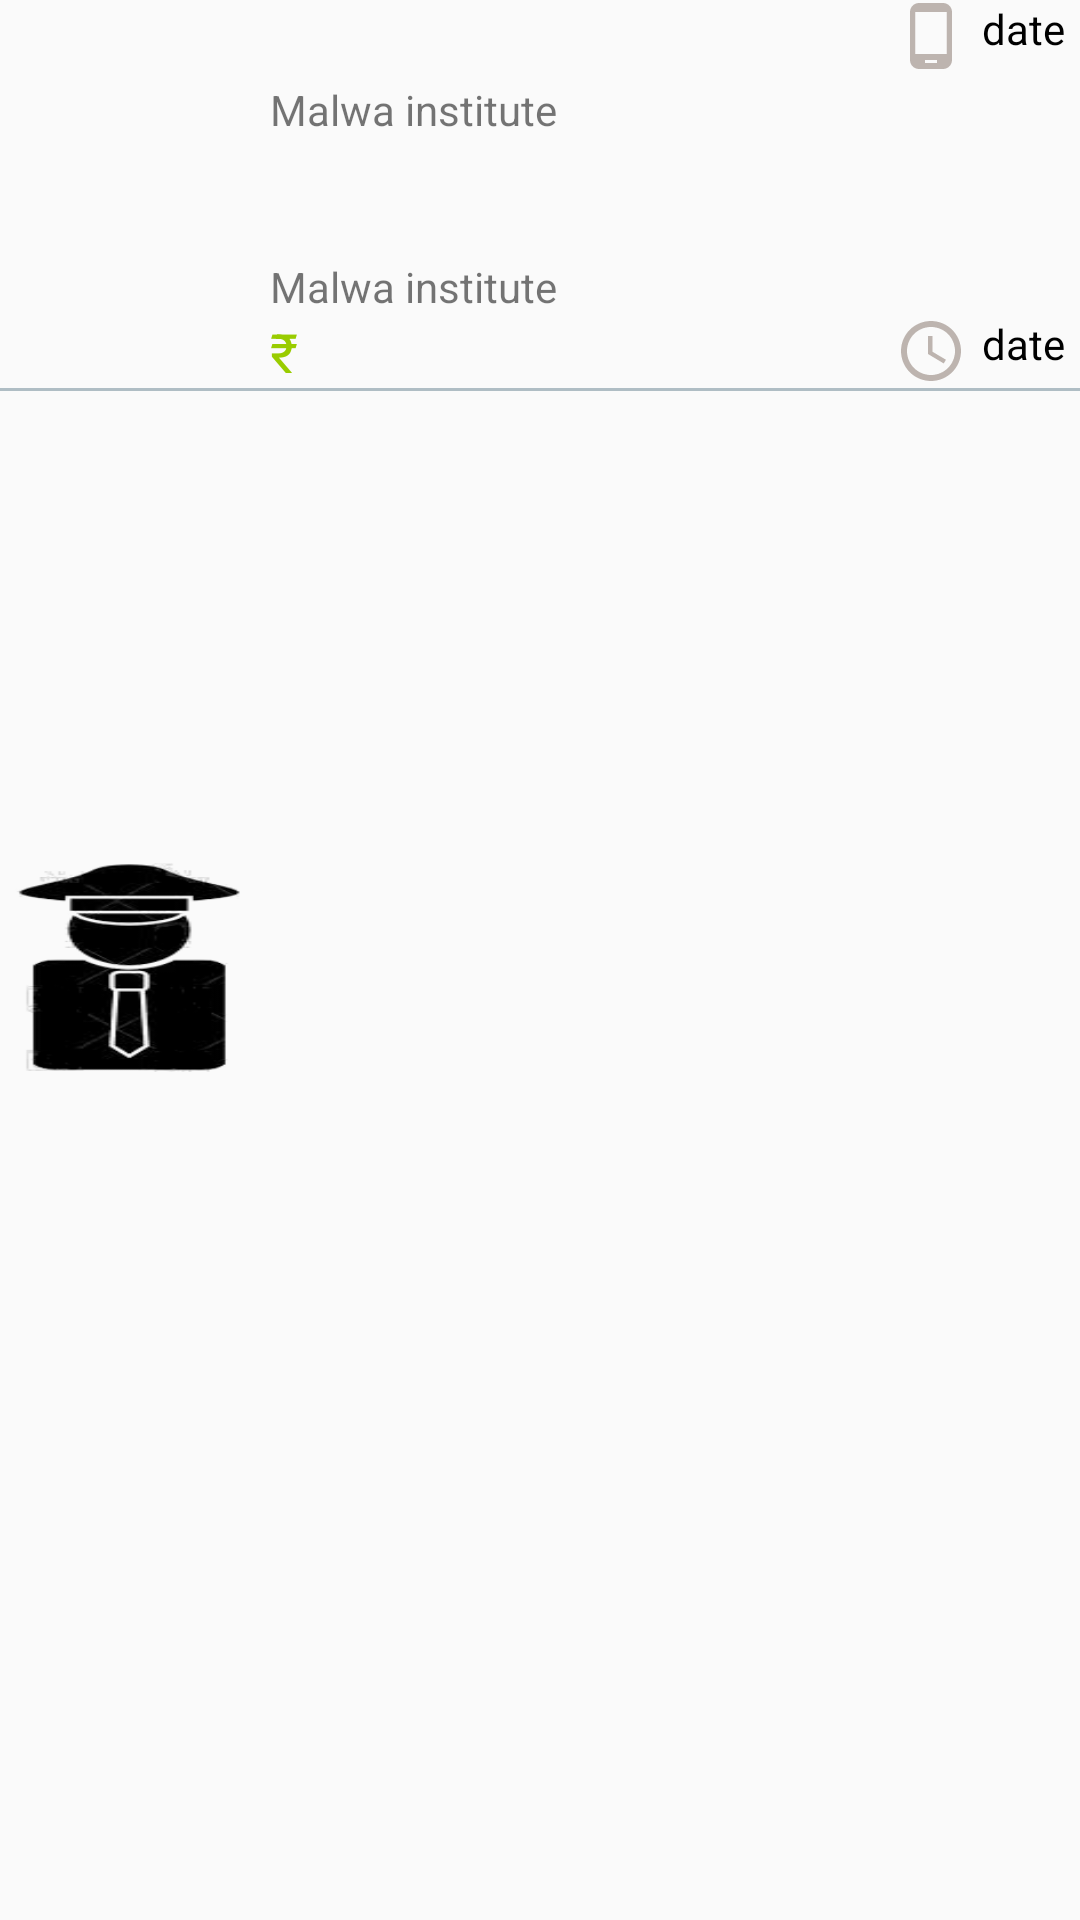

Icons on this 1080*1920 Android screen, each with the point to tap as (x=x, y=y):
driver: (x=129, y=968)
